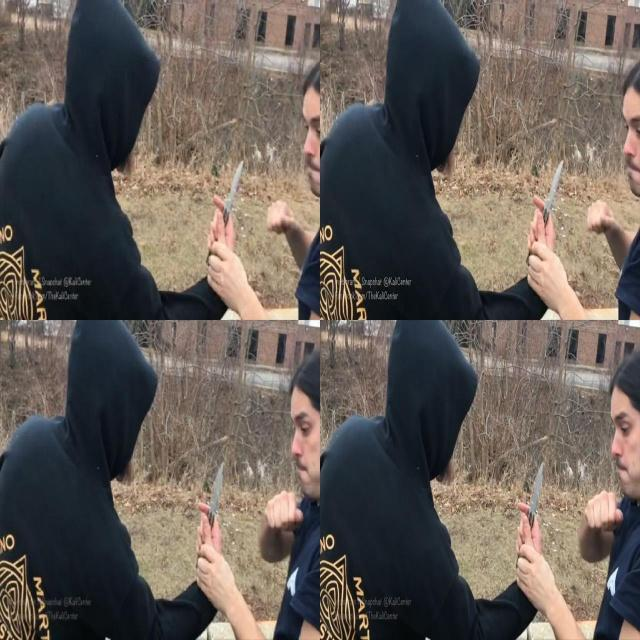-: (204, 154, 246, 265), (524, 154, 566, 265), (194, 455, 228, 556), (514, 455, 548, 556)
